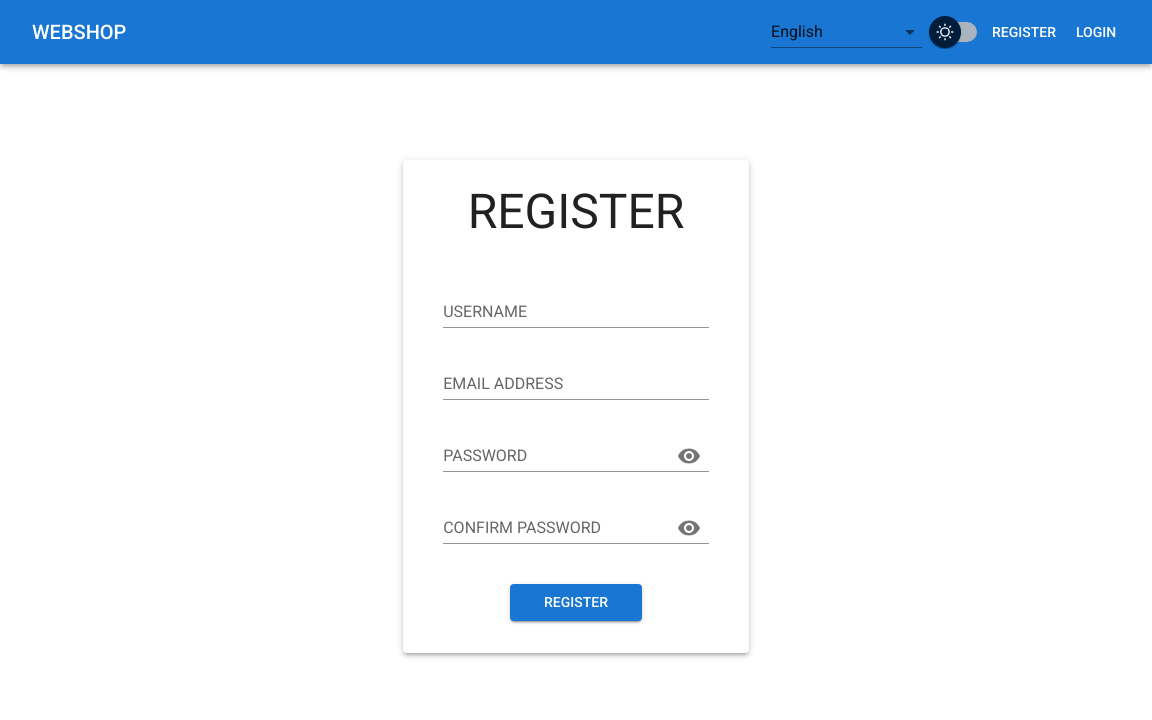
Scenario: Register page test › should show appropriate error message when username is longer than 50 characters
Type "irgbeobneorngokrnbkngownopntopnheropnorepnbptnbk berk prenbopernboperoperpnberonoerpgnoprnhperogorpgopernh" into the field with id "register-username".
click(576, 312); type("irgbeobneorngokrnbkngownopntopnheropnorepnbptnbk berk prenbopernboperoperpnberonoerpgnoprnhperogorpgopernh")  # box [443,296,709,328]
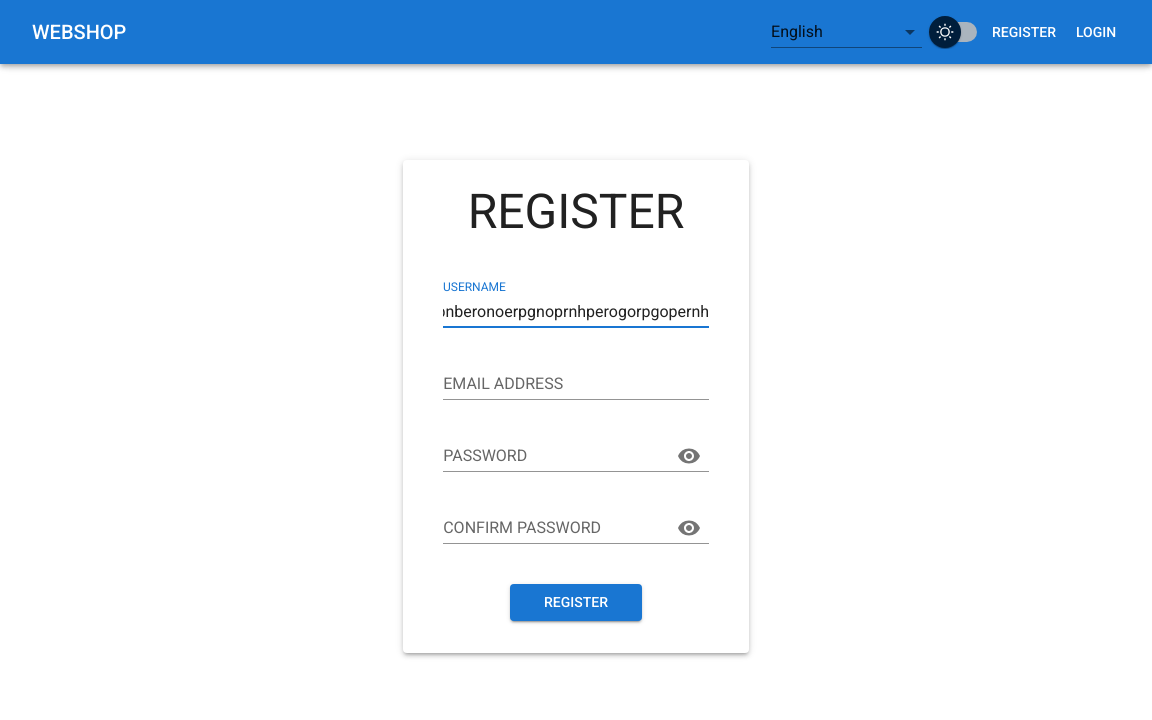
Leave the field with id "register-username", box [443,296,709,328]
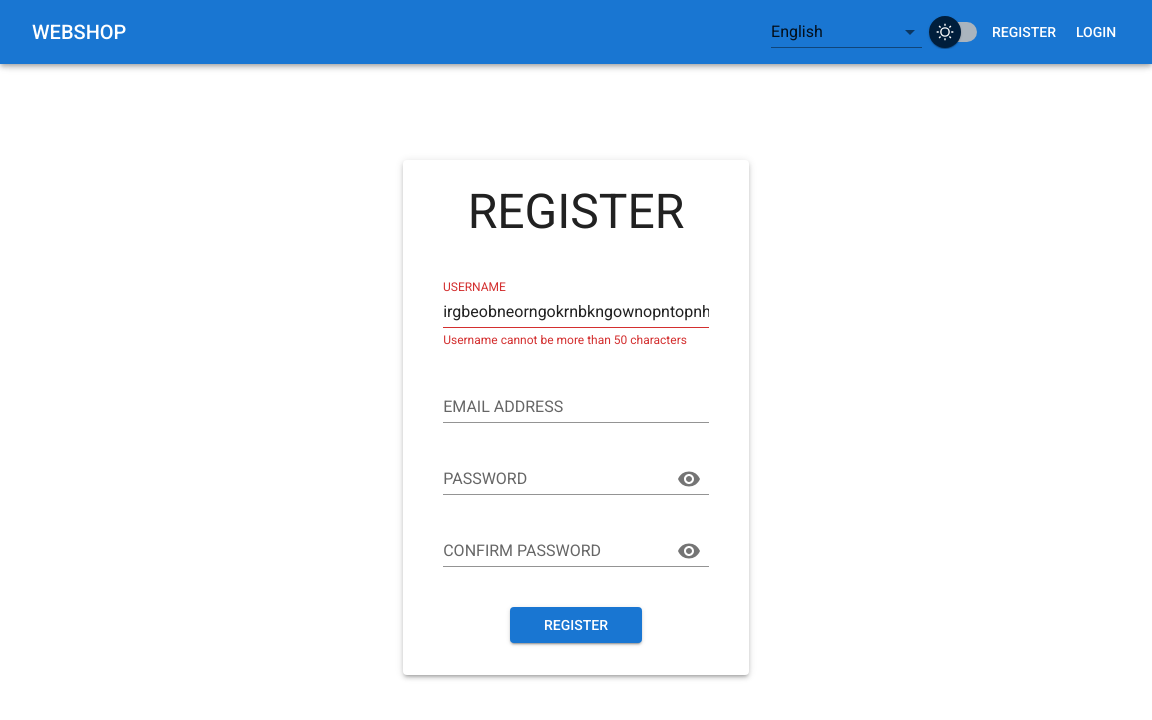
Now the text "Username cannot be more than 50 characters" is shown, box [443,331,709,351]
